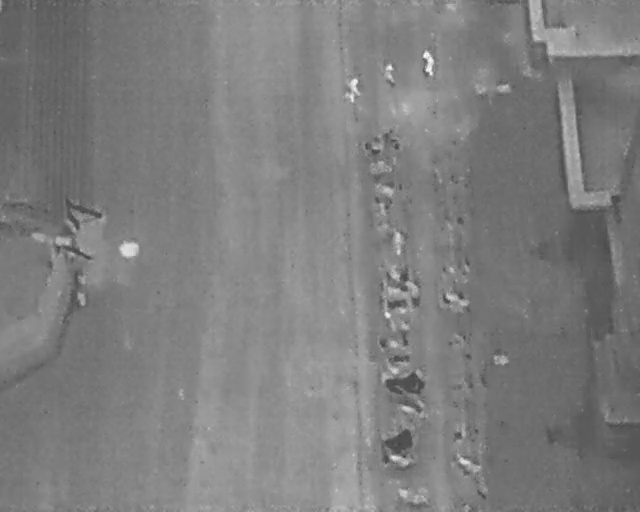Bicycle: (371, 213, 414, 252), (381, 369, 428, 399), (360, 125, 404, 157), (379, 262, 419, 295), (379, 291, 423, 316), (440, 285, 476, 311), (452, 449, 485, 477), (373, 329, 412, 352), (382, 427, 414, 455), (364, 154, 396, 178), (394, 393, 425, 416), (379, 451, 418, 468), (440, 257, 473, 277), (371, 179, 396, 200), (384, 350, 413, 368)
Person: (340, 75, 365, 105), (421, 48, 437, 77), (381, 61, 398, 86)
